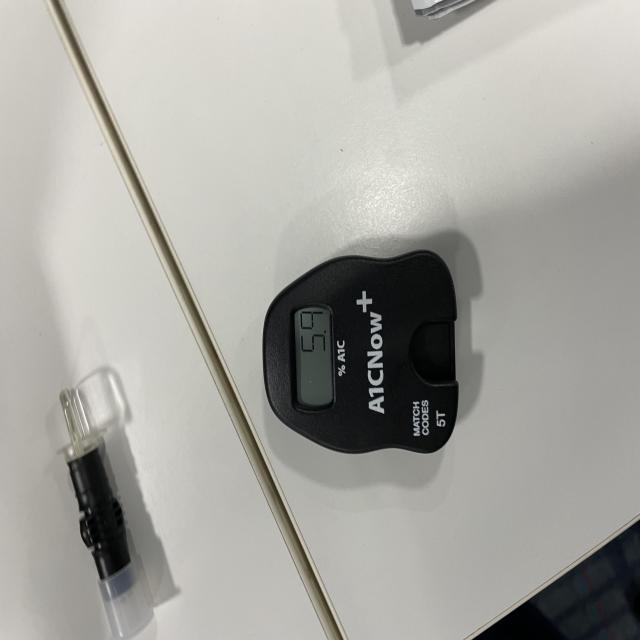hba1c: (261, 248, 462, 458)
